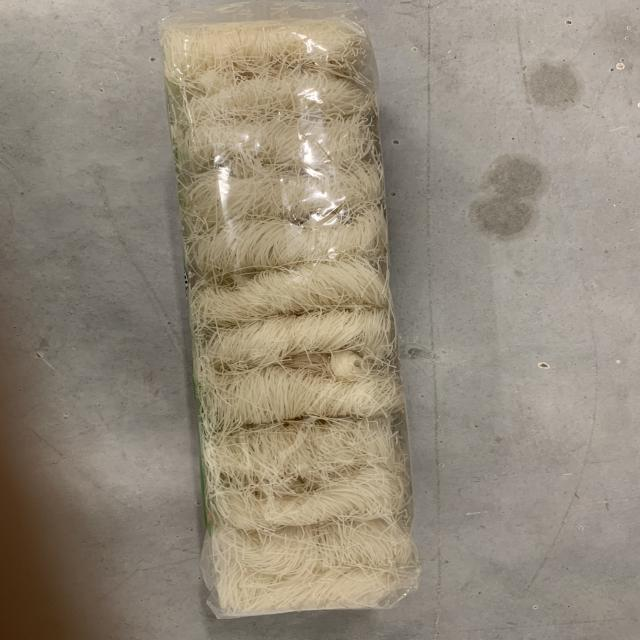object_name: (182, 27, 413, 598)
